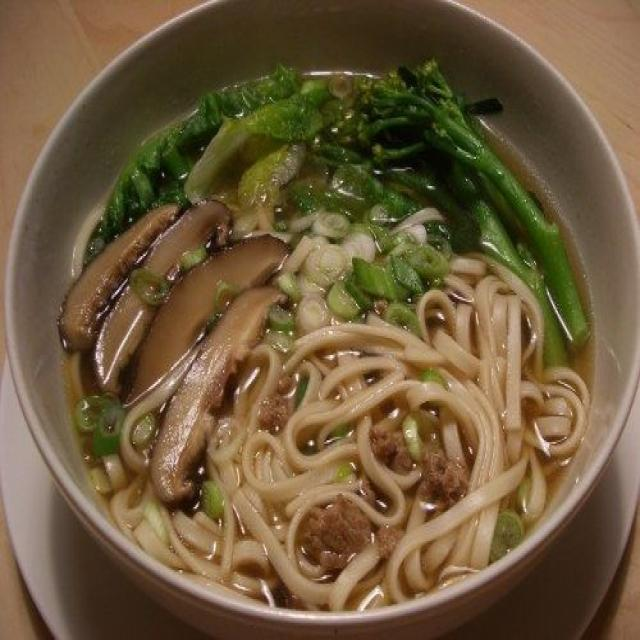面条主食: (18, 24, 630, 609)
